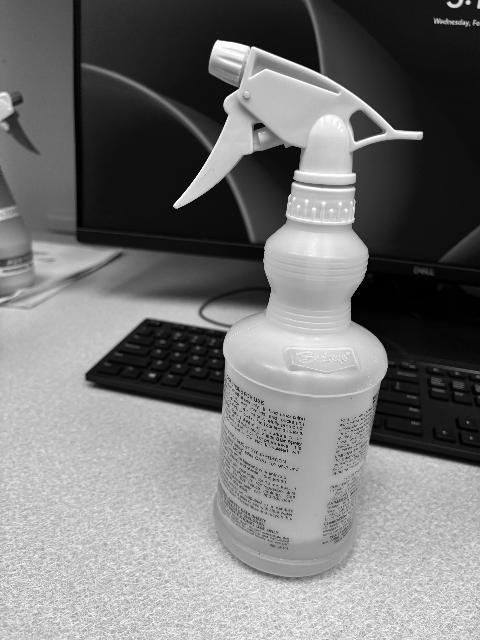StarSpray: (175, 42, 421, 580)
